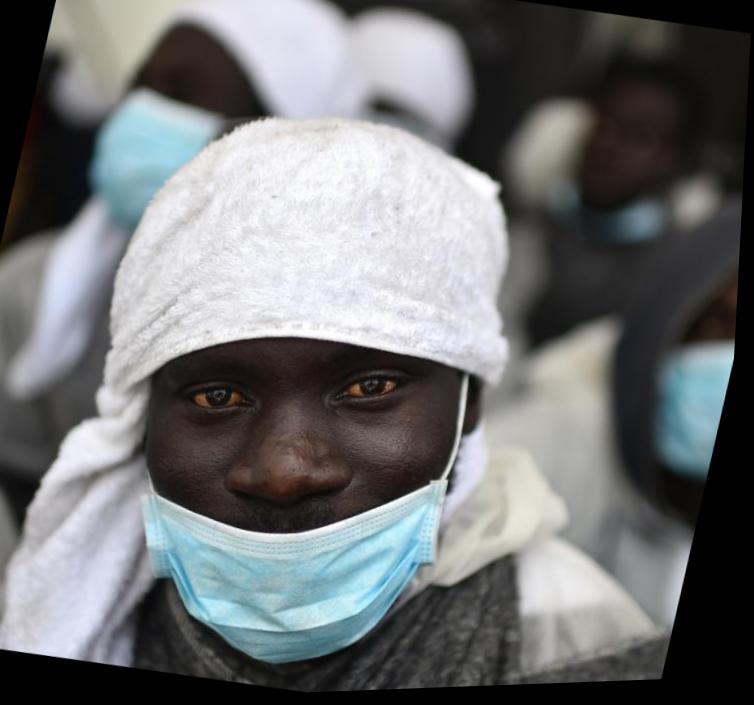WRONG: (96, 296, 477, 673)
